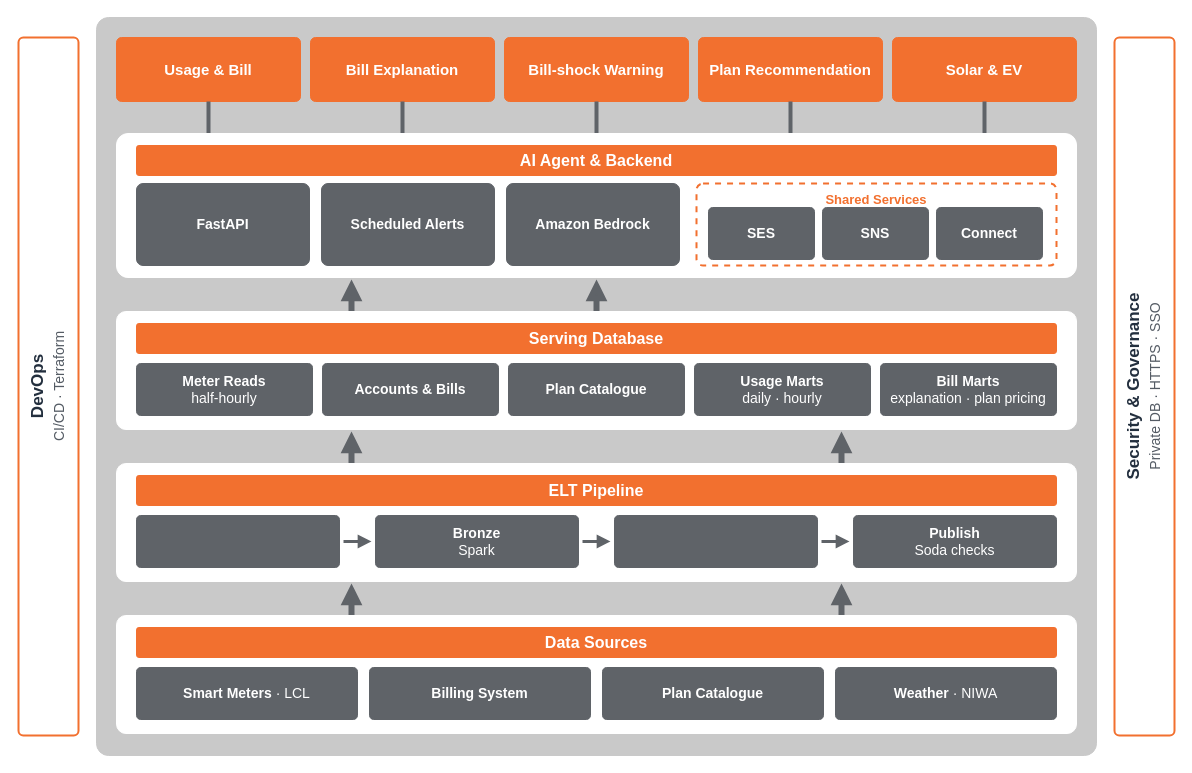
This 1192x773 diagram has some shape labels left out. Each missing label, with the centre of its shape:
Extract: the point at 238,541
Silver → Gold dbt: the point at 716,541
